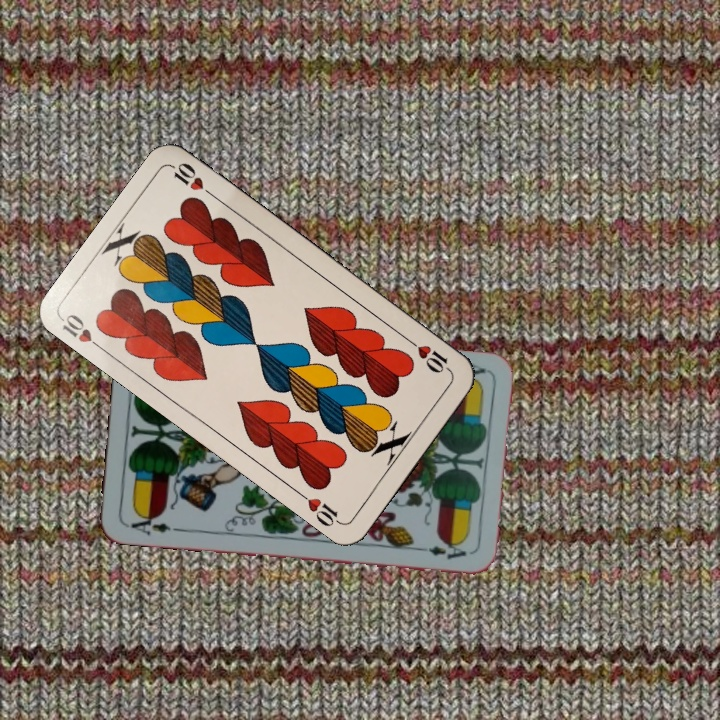EA: (123, 510, 182, 538)
H10: (58, 309, 109, 355), (403, 334, 454, 377)
